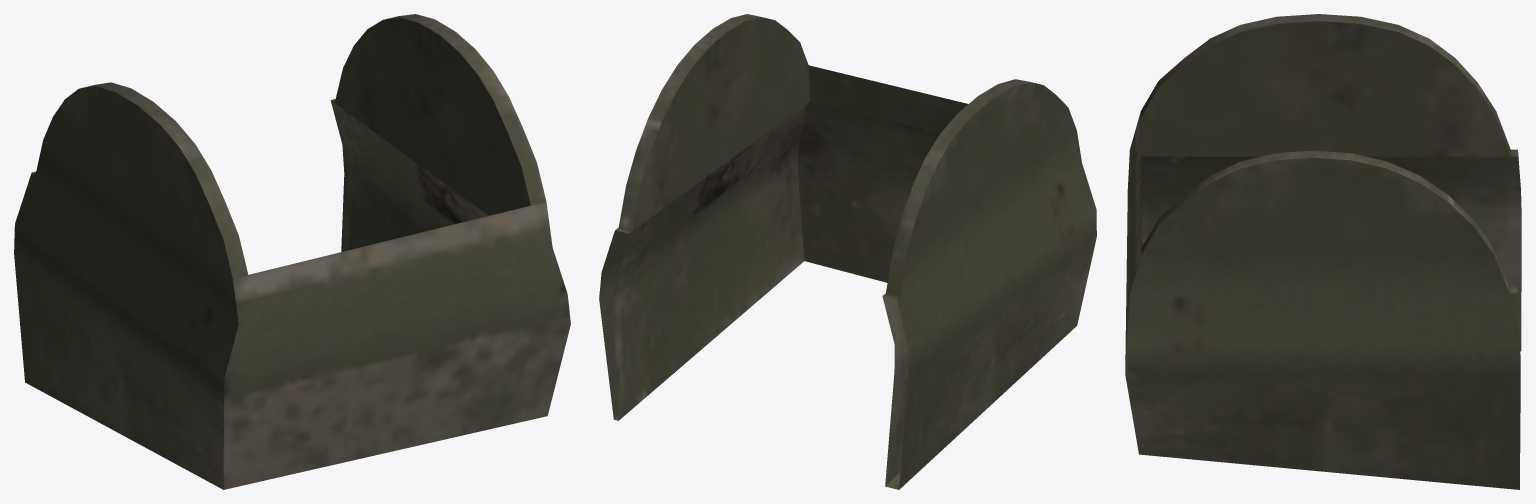
Rendered from Turret_01.glb.
The picture shows the model from 3 angles, left to right: view 1: azimuth 30°, elevation 25°; view 2: azimuth 150°, elevation 25°; view 3: azimuth 270°, elevation 25°; orthographic projection. The views are drawn at different scales.
Visible parts, largest first — view 1: set_0_group_0; view 2: set_0_group_0; view 3: set_0_group_0.
Boxes of the visible parts, x1,y1,x2,y2 form: set_0_group_0: [14, 14, 570, 489]; set_0_group_0: [599, 14, 1096, 489]; set_0_group_0: [1125, 14, 1521, 489].
Bounding box in the file's own units: 0.5776 × 0.5671 × 0.613.
1 material, 1 textured.
